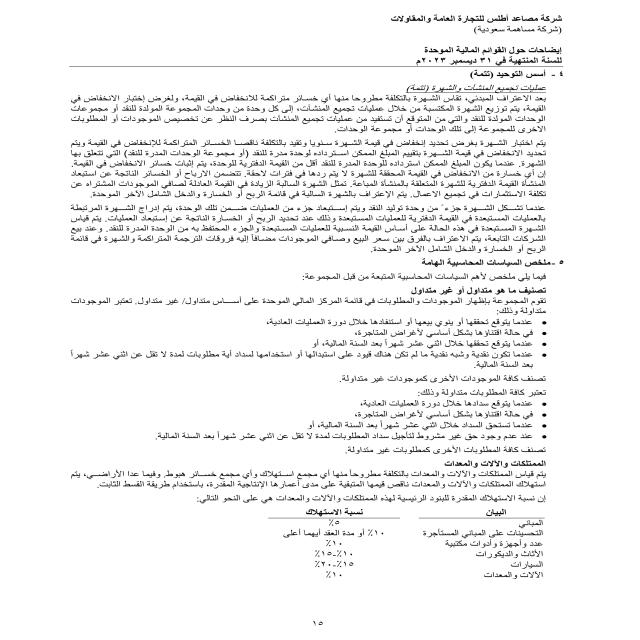notes: (421, 43, 568, 55)
text: (41, 79, 566, 589)
